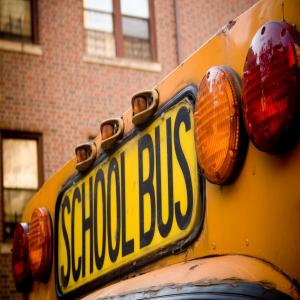Vehicle-registration-plate: (57, 82, 201, 300)
